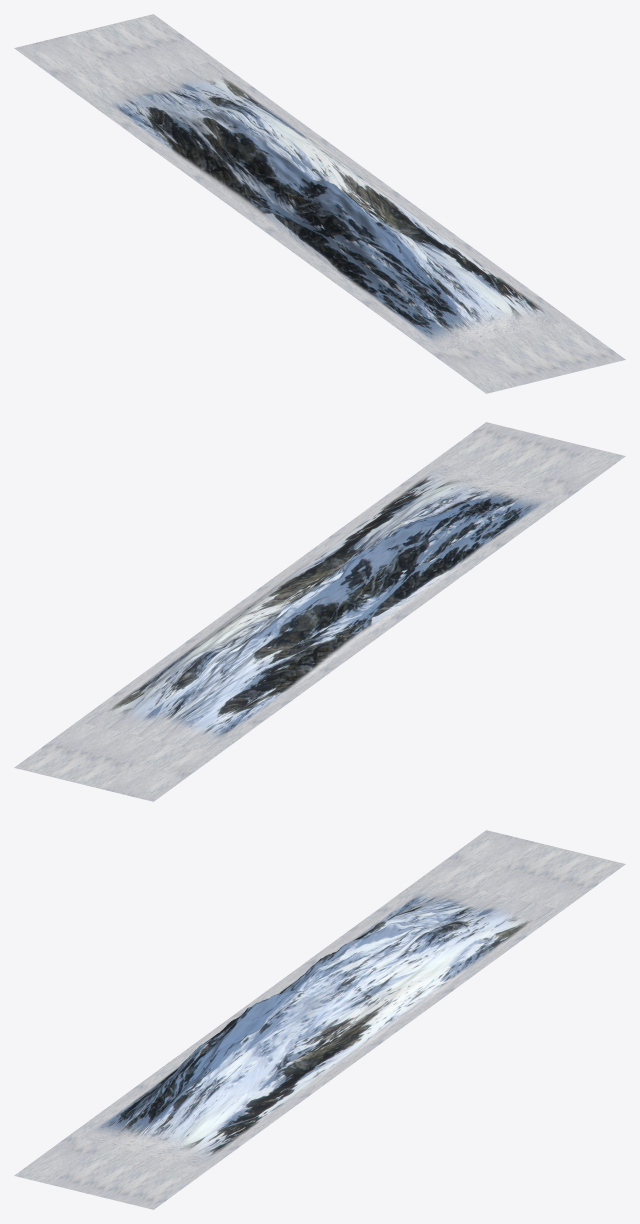
The model's file is volcano_horizon.fbx.
3 views of the same model, one above another, from view 1: azimuth 30°, elevation 25°; view 2: azimuth 150°, elevation 25°; view 3: azimuth 330°, elevation 25° (orthographic).
Parts seen in each view (by area): view 1: horizon; view 2: horizon; view 3: horizon.
Boxes of the visible parts, x1,y1,x2,y2 form: horizon: (14,14,625,393); horizon: (14,422,625,801); horizon: (14,830,625,1209).
Size of the model in its own units: 4850 by 1448 by 28406.
